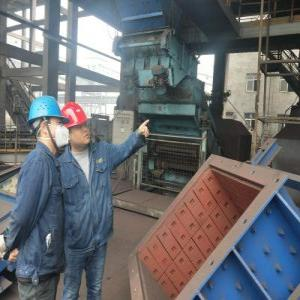blue: (28, 96, 69, 154)
red: (61, 102, 92, 148)
